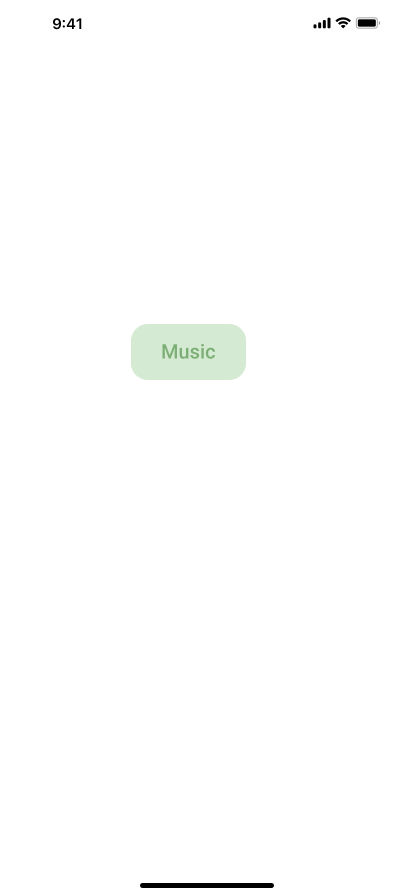Buttons: (131, 324, 254, 380)
Home Indicator: (0, 862, 414, 896)
Status Bar: (0, 0, 414, 44)
